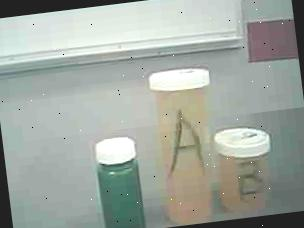Bottle A: (131, 60, 219, 228)
Bottle B: (212, 122, 284, 218)
Bottle C: (85, 130, 149, 228)
